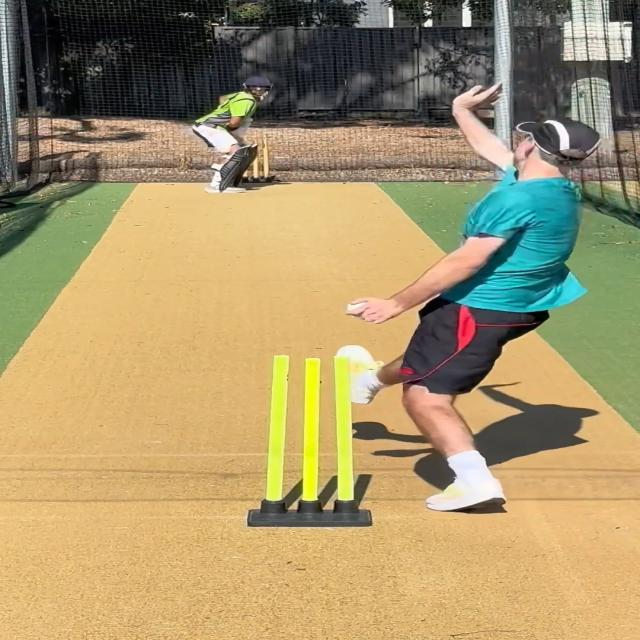stump: (244, 352, 373, 531), (242, 135, 268, 183)
